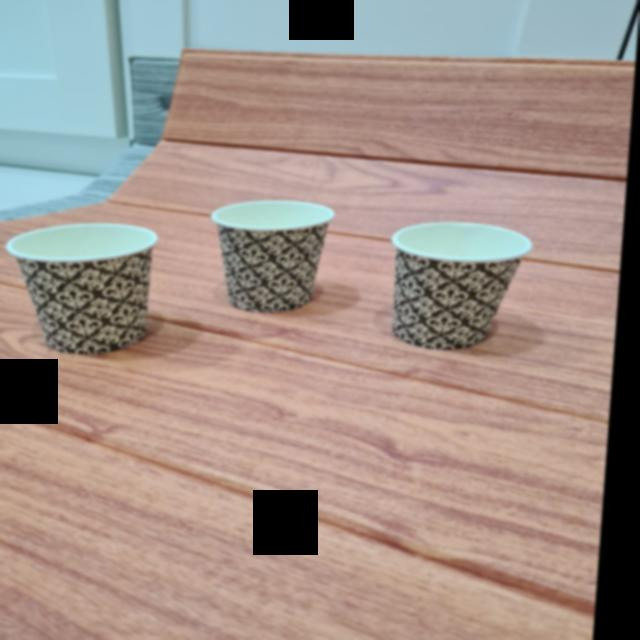cups: (9, 225, 169, 358), (385, 222, 539, 350), (206, 200, 343, 316)
